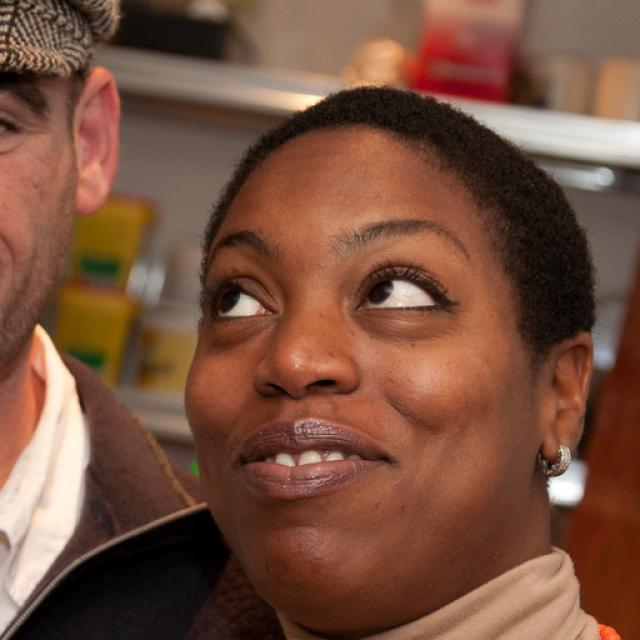happy: (188, 121, 542, 591)
